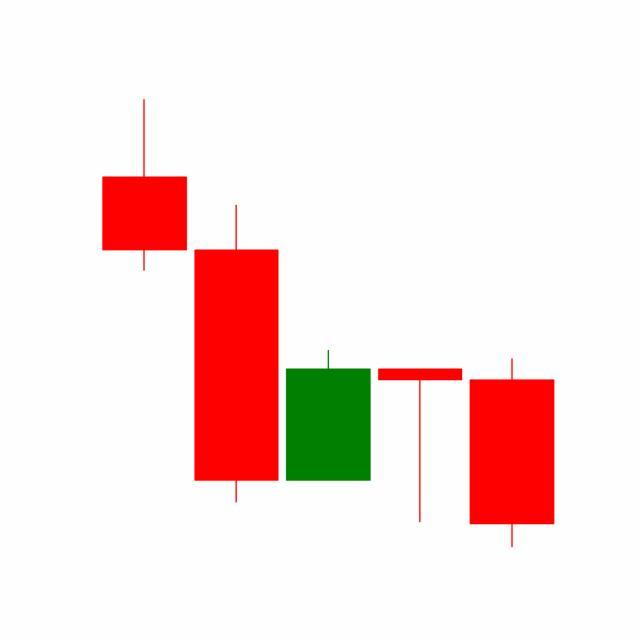Dragonfly Doji: (374, 367, 468, 525)
